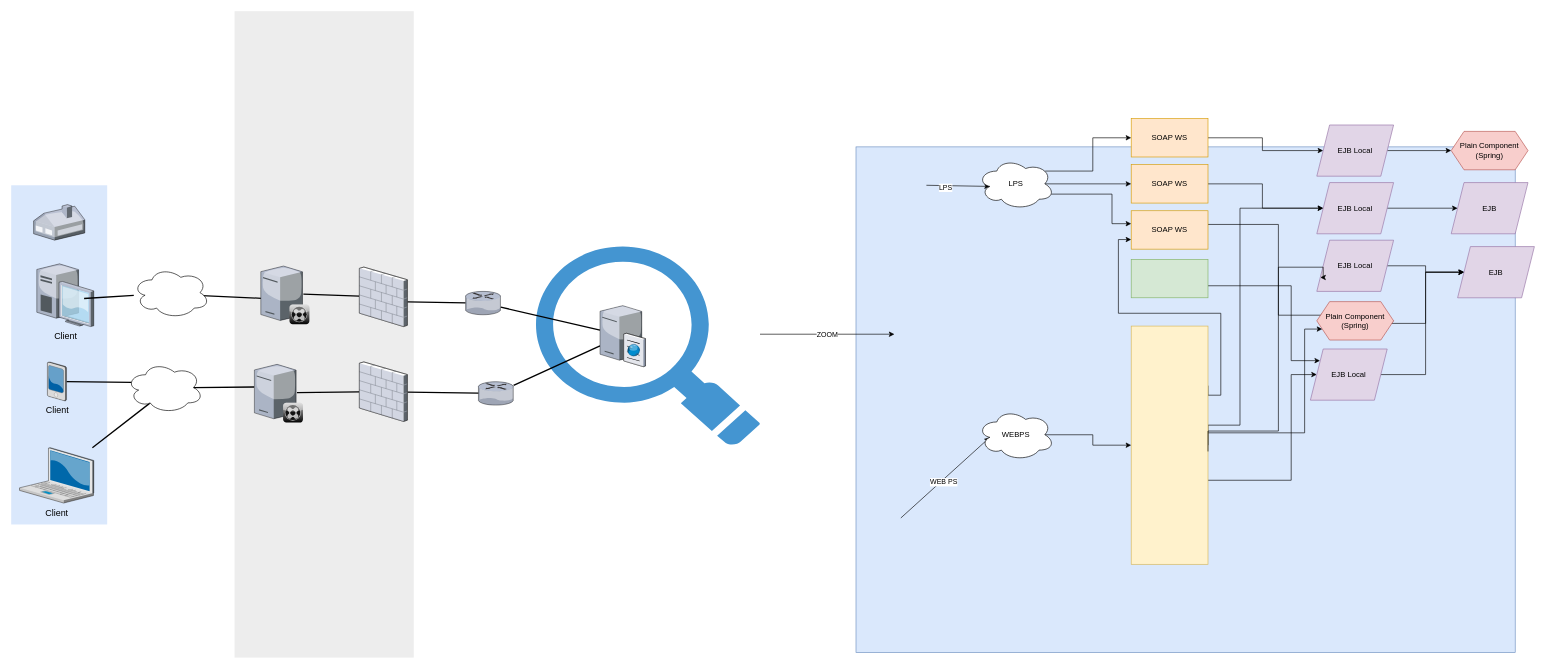
Some shapes in this 1546 by 668 pixel diagram are drawn without their labels. Each missing label, with the box of its shape:
End User: (11, 185, 107, 524)
https:// LPS: (132, 266, 210, 318)
https:// web ps: (126, 361, 203, 413)
LB / WAF: (234, 11, 413, 657)
REST WS: (1131, 259, 1208, 298)
Server-side WebApp (Tapestry): (1131, 325, 1208, 564)
WebApp + EJB (JEE Server): (600, 304, 645, 366)
